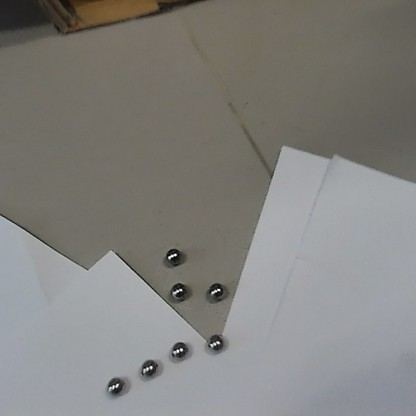ironball: (138, 356, 163, 378), (169, 338, 192, 361), (205, 279, 229, 301), (103, 375, 126, 397), (203, 333, 227, 354), (171, 280, 189, 303), (164, 246, 183, 264)
